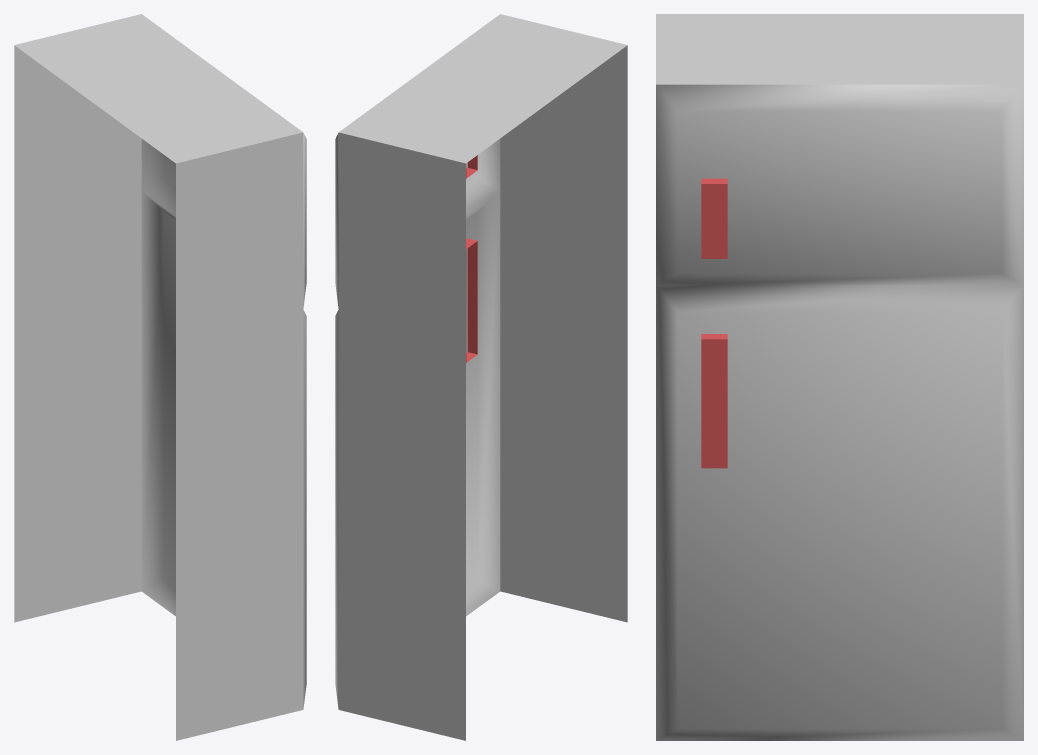
File: FBX_Fridge.fbx
The picture shows the model from 3 angles, left to right: view 1: azimuth 30°, elevation 25°; view 2: azimuth 150°, elevation 25°; view 3: azimuth 270°, elevation 25°; orthographic projection. The views are drawn at different scales.
Parts seen in each view (by area): view 1: Cube; view 2: Cube; view 3: Cube.
Part boxes in pixels (x1,y1,x2,y2): Cube: (14, 14, 306, 740); Cube: (335, 14, 627, 740); Cube: (656, 14, 1023, 740).
Size of the model in its own units: 107 by 394 by 200.
